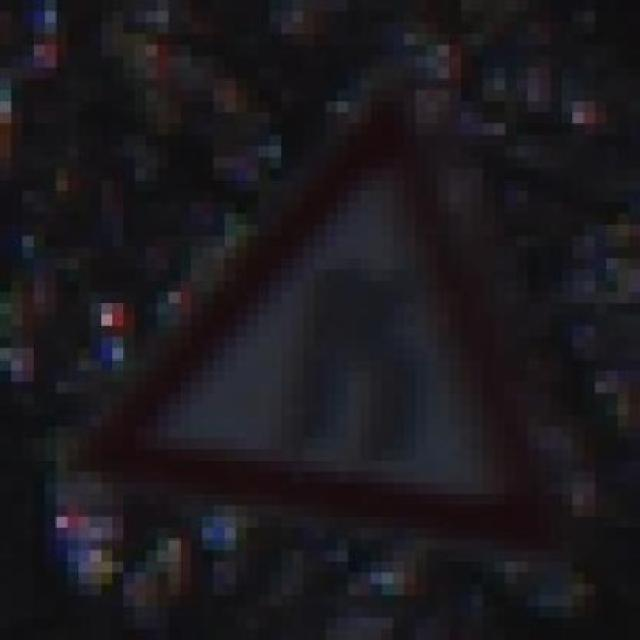-Road narrows on right: (67, 79, 573, 550)
